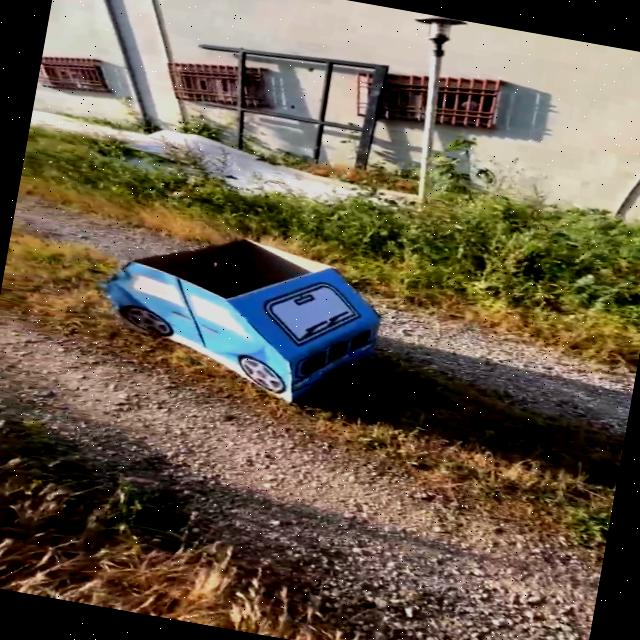blue_car: (39, 198, 464, 441)
